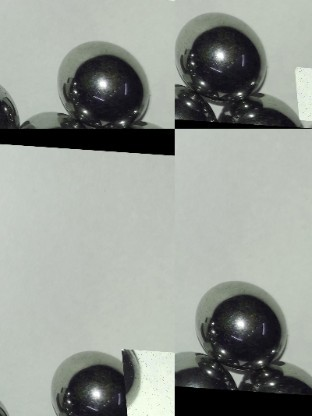ironball: (193, 279, 287, 368), (174, 13, 267, 95), (58, 38, 149, 120), (52, 351, 125, 414), (220, 92, 302, 130), (173, 347, 234, 392), (244, 358, 310, 398), (164, 80, 215, 127), (21, 109, 83, 136), (1, 80, 17, 133)
